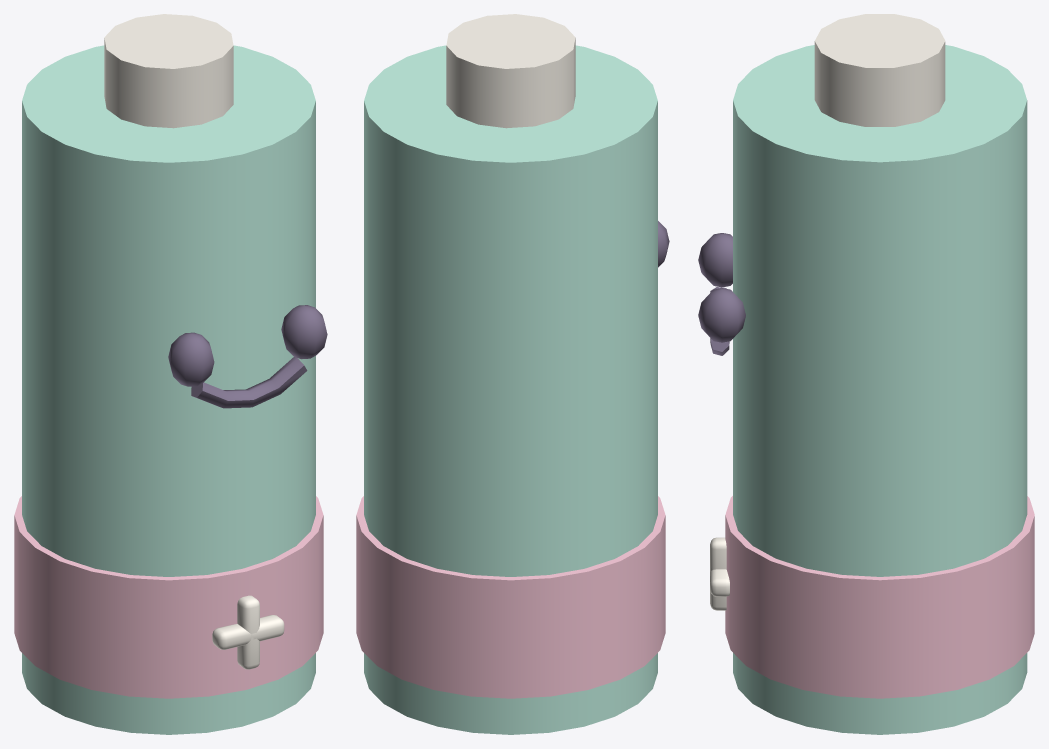
File: Tool_Battery.fbx
3 views of the same model, side by side, from view 1: azimuth 30°, elevation 25°; view 2: azimuth 150°, elevation 25°; view 3: azimuth 270°, elevation 25° (orthographic).
Visible parts, largest first — view 1: Tool_Battery; view 2: Tool_Battery; view 3: Tool_Battery.
Boxes of the visible parts, bbox=[...] form: Tool_Battery: bbox=[14, 14, 327, 734]; Tool_Battery: bbox=[356, 14, 669, 734]; Tool_Battery: bbox=[698, 14, 1034, 734].
Size of the model in its own units: 0.0284 by 0.0655 by 0.0309.
